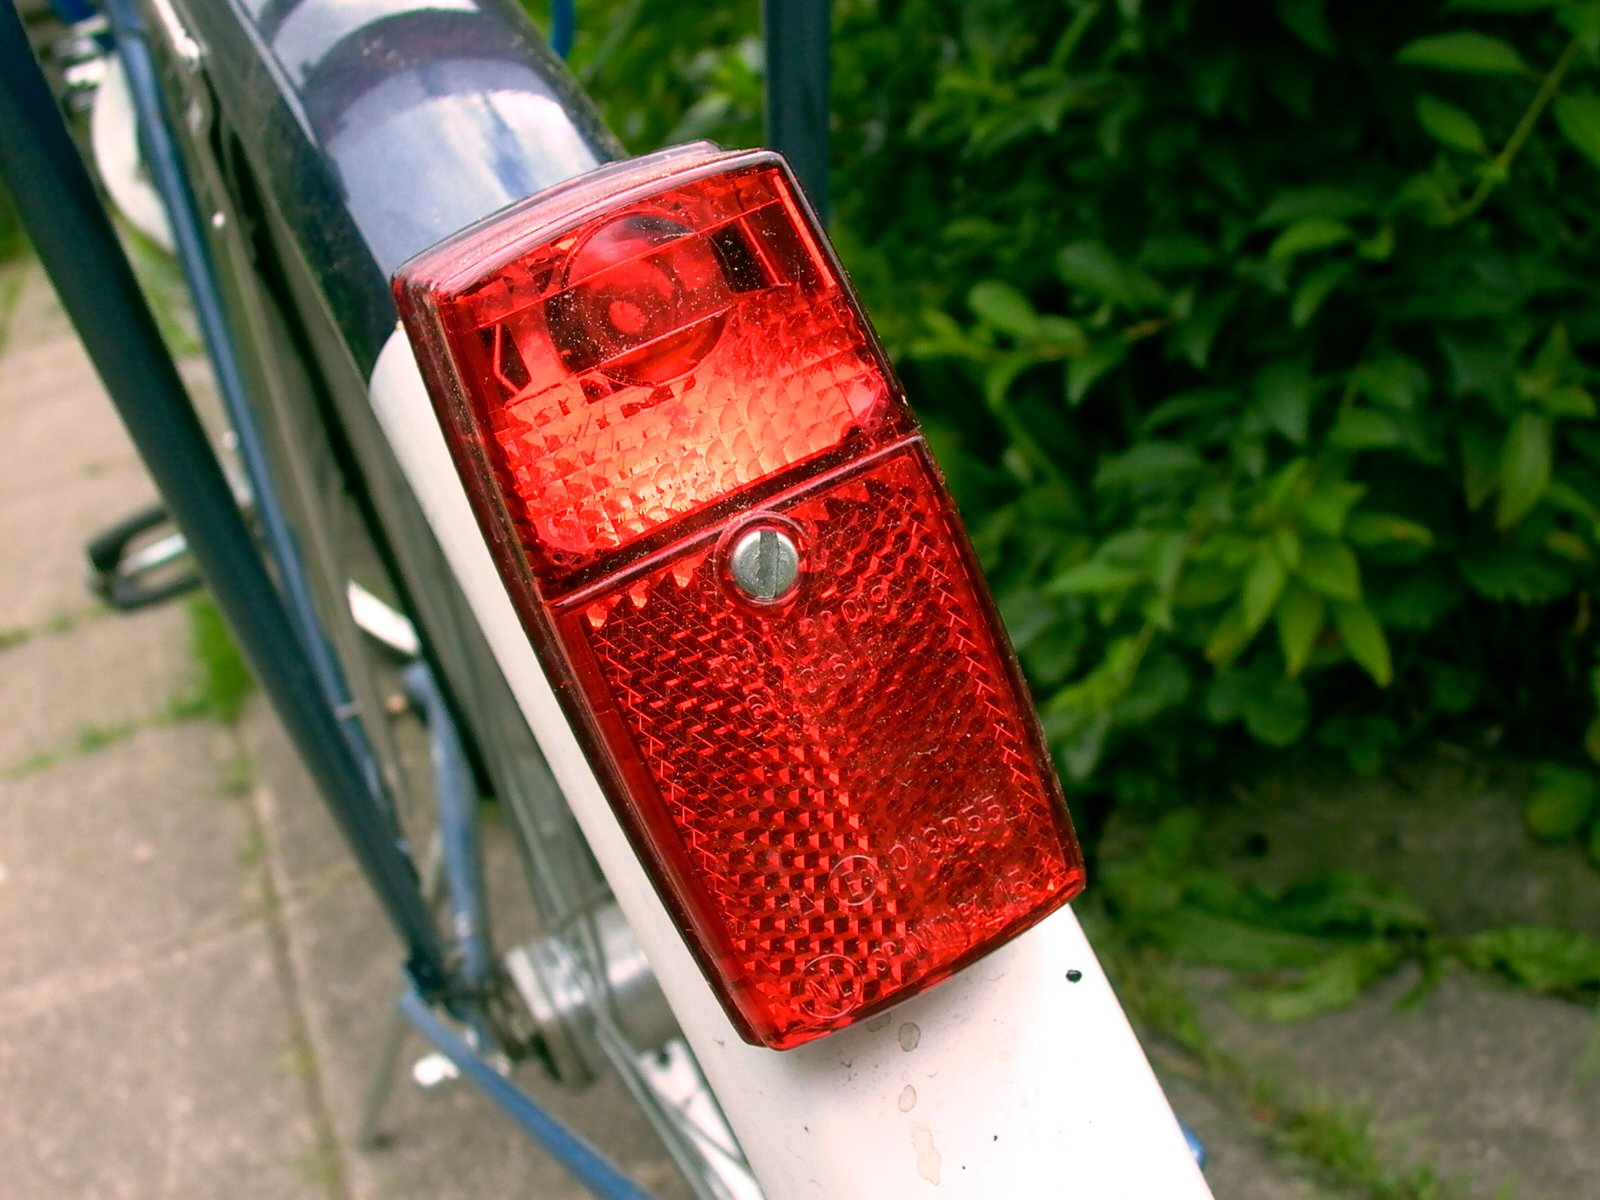Bicycle: (13, 1, 1482, 1147)
